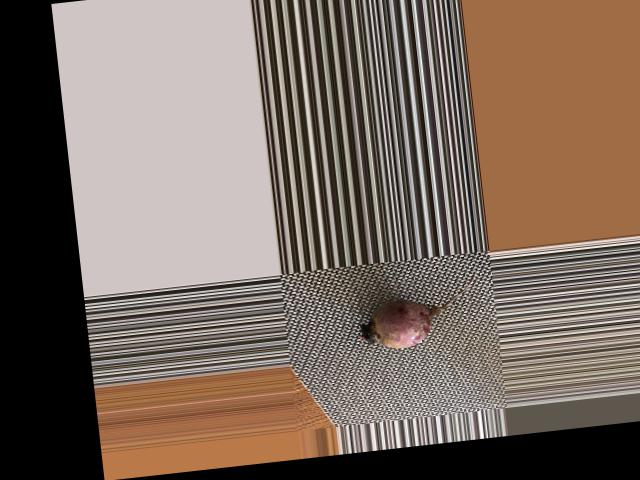beet: (352, 271, 483, 351)
